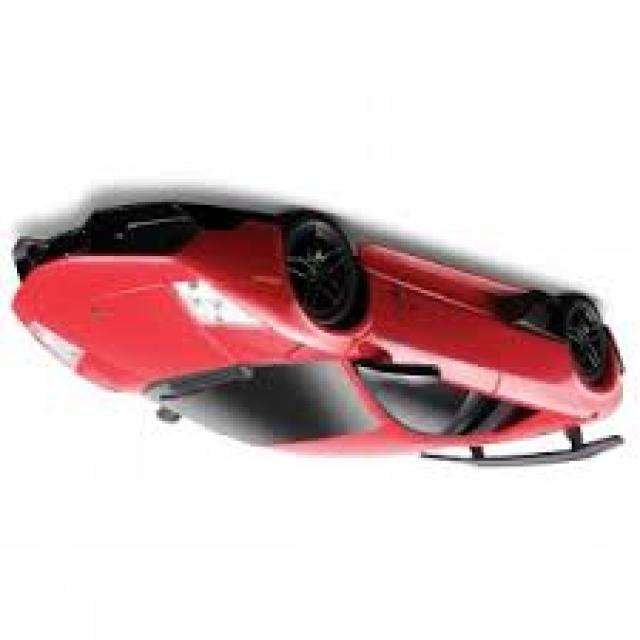Car: (8, 202, 626, 472)
